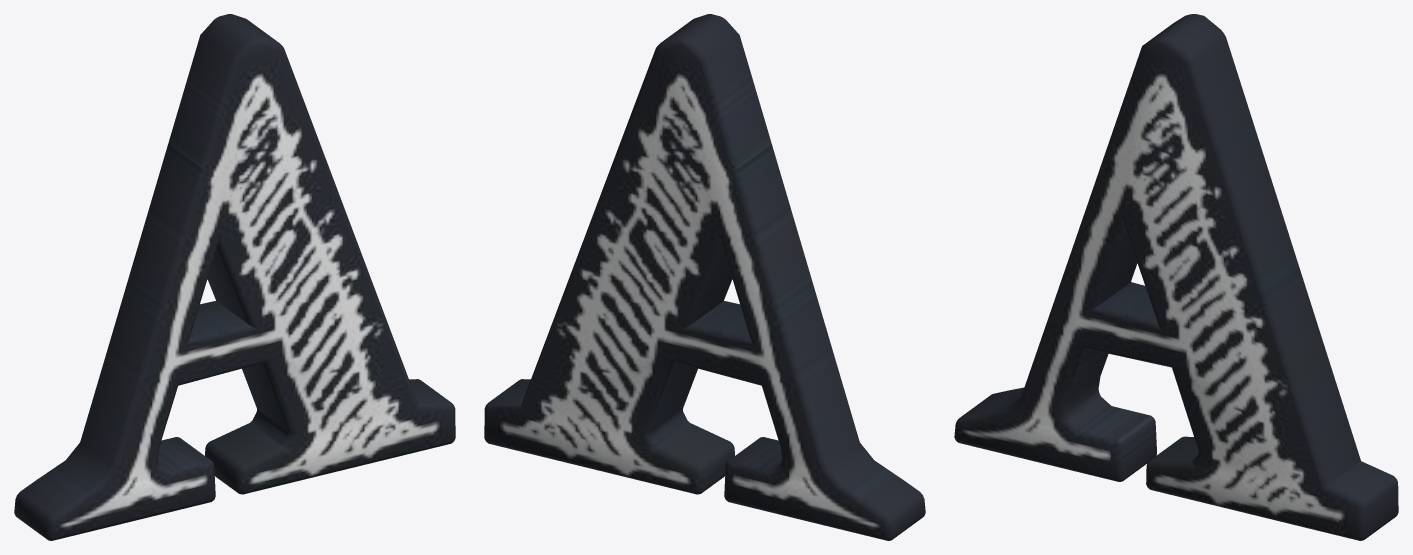
3 renders of one model, left to right at view 1: azimuth 30°, elevation 25°; view 2: azimuth 150°, elevation 25°; view 3: azimuth 330°, elevation 25°, orthographic.
Visible parts, largest first — view 1: m_A; view 2: m_A; view 3: m_A.
Boxes of the visible parts, x1,y1,x2,y2 form: m_A: (14,14,455,540); m_A: (484,14,925,540); m_A: (954,14,1398,540).
Size of the model in its own units: 0.6312 by 0.6662 by 0.1.
